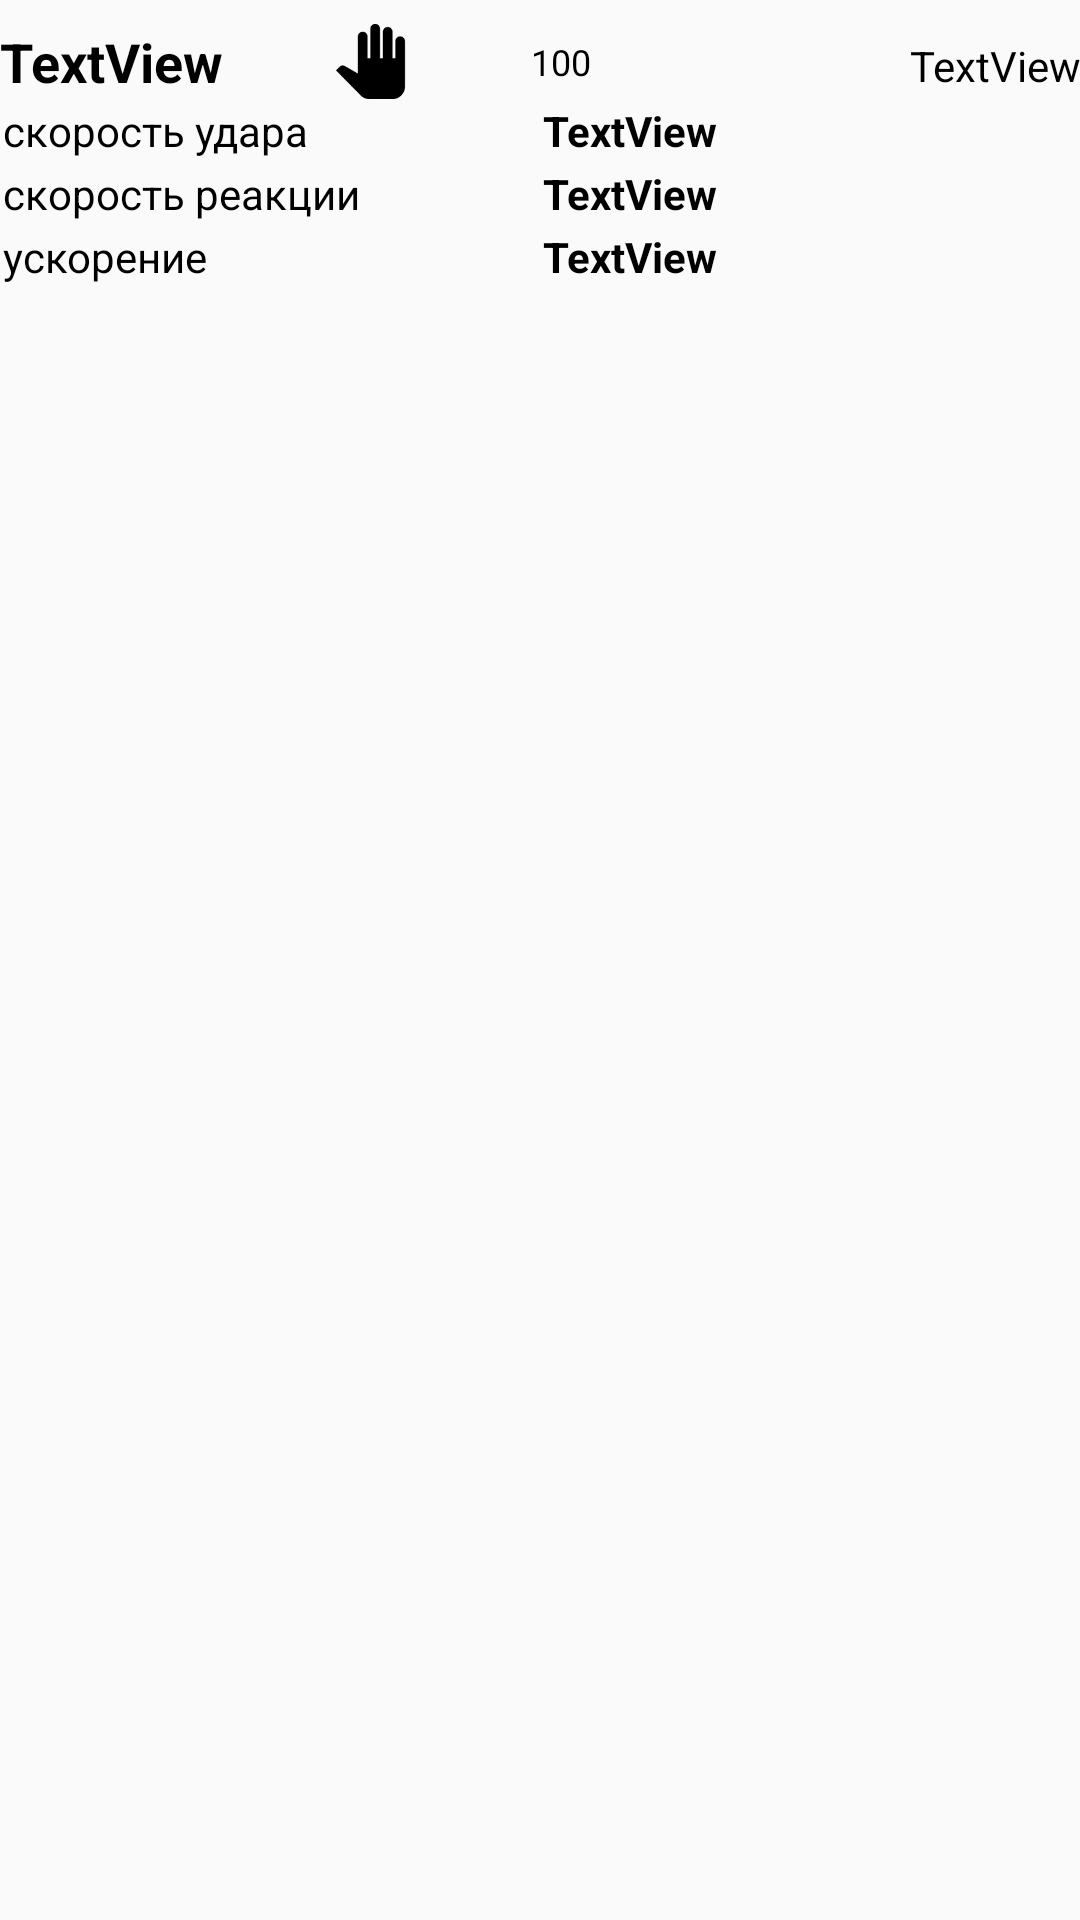

Where to tap for icons on this 1080px x 1920px app screen, as [x,y]:
left hand: [370,61]
